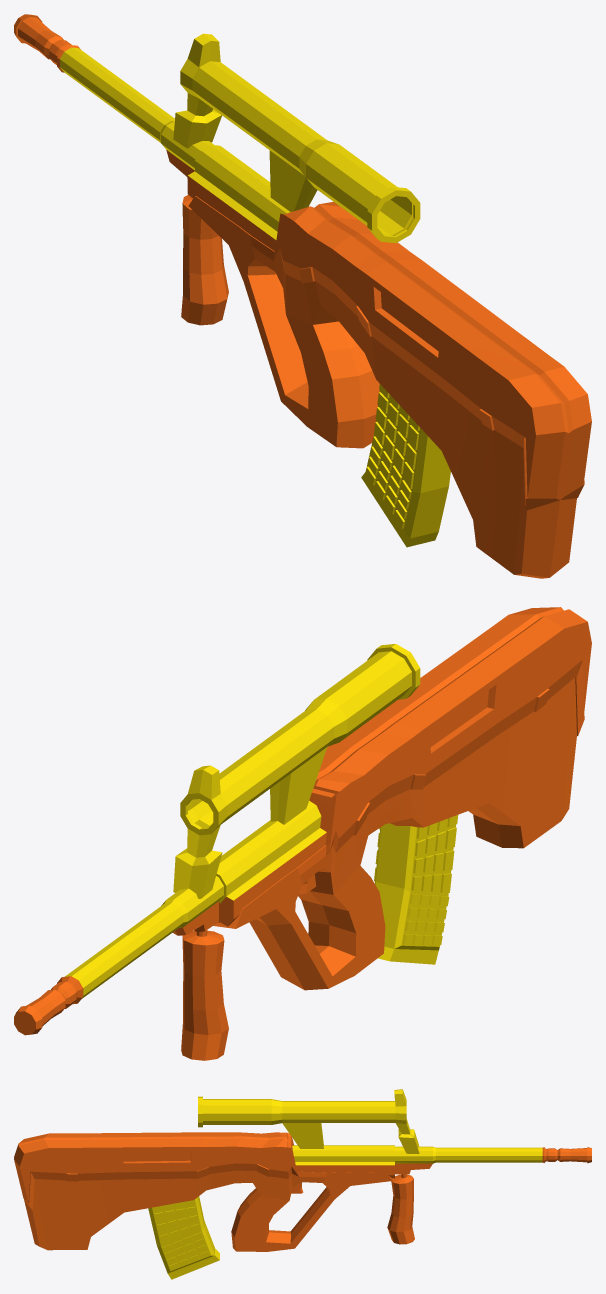
File: Assoult_2.fbx
3 renders of one model, top to bottom at view 1: azimuth 30°, elevation 25°; view 2: azimuth 150°, elevation 25°; view 3: azimuth 270°, elevation 25°, orthographic. The views are drawn at different scales.
Parts seen in each view (by area): view 1: Assouly_2; view 2: Assouly_2; view 3: Assouly_2.
Boxes of the visible parts, box(x1,y1,x2,y2) form: Assouly_2: box(14, 14, 591, 578); Assouly_2: box(14, 607, 591, 1060); Assouly_2: box(14, 1089, 591, 1279).
Size of the model in its own units: 42.63 by 239 by 672.
